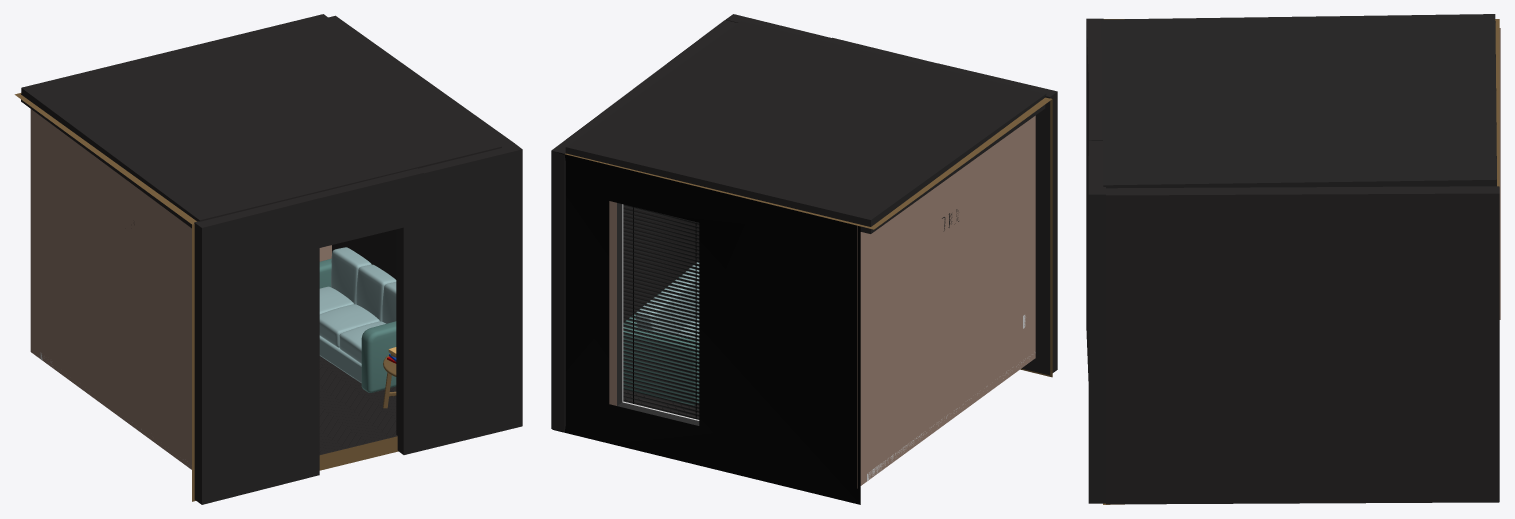
Rendered from room-fix.glb.
3 renders of one model, left to right at view 1: azimuth 30°, elevation 25°; view 2: azimuth 150°, elevation 25°; view 3: azimuth 270°, elevation 25°, orthographic. The views are drawn at different scales.
Visible parts, largest first — view 1: walls.001, Cube.006, Plane.003; view 2: walls.001, Plane, Cube.006; view 3: walls.001.
Boxes of the visible parts, <box> form: walls.001: <box>14,14,522,504</box>; Cube.006: <box>319,247,396,392</box>; Plane.003: <box>319,356,397,454</box>; walls.001: <box>551,14,1057,504</box>; Plane: <box>623,204,699,419</box>; Cube.006: <box>623,262,699,405</box>; walls.001: <box>1086,14,1500,504</box>.
Bounding box in the file's own units: 2.23 × 1.86 × 2.21.
